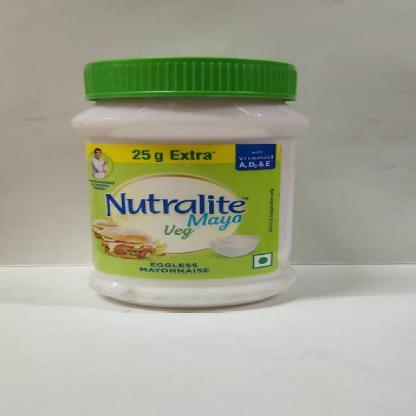Nutralite VEG MAYO 300g-275g-25g-: (71, 58, 303, 311)
